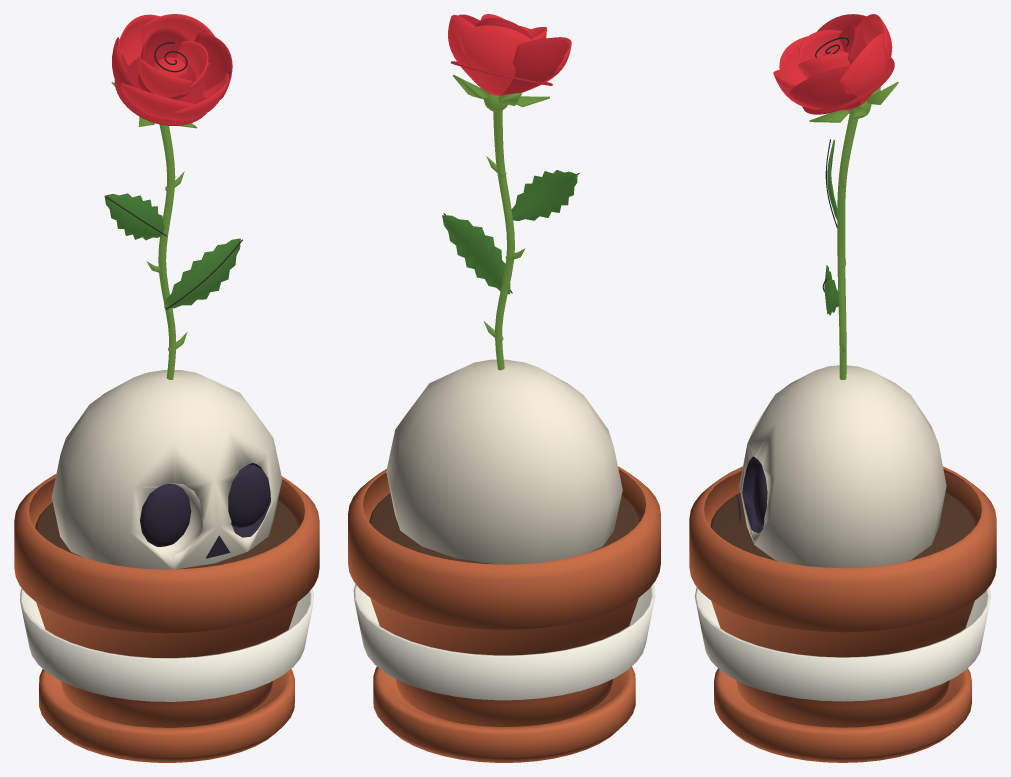
File: pot_skull.glb
The picture shows the model from 3 angles, left to right: view 1: azimuth 30°, elevation 25°; view 2: azimuth 150°, elevation 25°; view 3: azimuth 270°, elevation 25°; orthographic projection. The views are drawn at different scales.
Visible parts, largest first — view 1: Terracotta_open_pot, Ivory_skull_bulb, Cream_botanical_band, Separate_saucer, Socket_dark_interior, Serrated_leaf_2, Removable_soil, Socket_dark_interior.001, Curved_stem, Serrated_leaf_1, Outer_petal_1, Outer_petal_3 (+8 smaller); view 2: Ivory_skull_bulb, Terracotta_open_pot, Cream_botanical_band, Separate_saucer, Outer_petal_5, Serrated_leaf_2, Removable_soil, Serrated_leaf_1, Outer_petal_4, Curved_stem, Outer_petal_6; view 3: Terracotta_open_pot, Ivory_skull_bulb, Cream_botanical_band, Separate_saucer, Removable_soil, Curved_stem, Outer_petal_6, Outer_petal_1, Inner_petal_2, Outer_petal_3, Inner_petal_1, Outer_petal_5 (+3 smaller).
Part boxes in pixels (x1,y1,x2,y2): Terracotta_open_pot: (14, 474, 319, 727); Ivory_skull_bulb: (51, 370, 282, 569); Cream_botanical_band: (20, 588, 313, 701); Separate_saucer: (39, 669, 294, 762); Socket_dark_interior: (140, 484, 191, 546); Serrated_leaf_2: (164, 238, 240, 308); Removable_soil: (35, 500, 298, 569); Socket_dark_interior.001: (228, 464, 270, 527); Curved_stem: (158, 124, 175, 379); Serrated_leaf_1: (104, 193, 164, 240); Outer_petal_1: (194, 33, 232, 100); Outer_petal_3: (120, 82, 194, 119); Ivory_skull_bulb: (386, 359, 622, 564); Terracotta_open_pot: (348, 466, 660, 726); Cream_botanical_band: (353, 584, 655, 700); Separate_saucer: (373, 666, 635, 762); Outer_petal_5: (460, 25, 532, 96); Serrated_leaf_2: (442, 215, 510, 294); Removable_soil: (369, 493, 639, 564); Serrated_leaf_1: (511, 170, 577, 220); Outer_petal_4: (501, 38, 567, 95); Curved_stem: (493, 110, 514, 370); Outer_petal_6: (448, 15, 488, 92); Terracotta_open_pot: (689, 466, 996, 727); Ivory_skull_bulb: (739, 365, 946, 567); Cream_botanical_band: (695, 587, 990, 701); Separate_saucer: (714, 668, 971, 762); Removable_soil: (710, 492, 975, 560); Curved_stem: (837, 115, 857, 379); Outer_petal_6: (839, 33, 887, 104); Outer_petal_1: (789, 66, 860, 109); Inner_petal_2: (799, 29, 843, 62); Outer_petal_3: (779, 36, 807, 84); Inner_petal_1: (798, 53, 850, 78); Outer_petal_5: (856, 14, 892, 70).
Bounding box in the file's own units: 0.24 × 0.5942 × 0.24.
